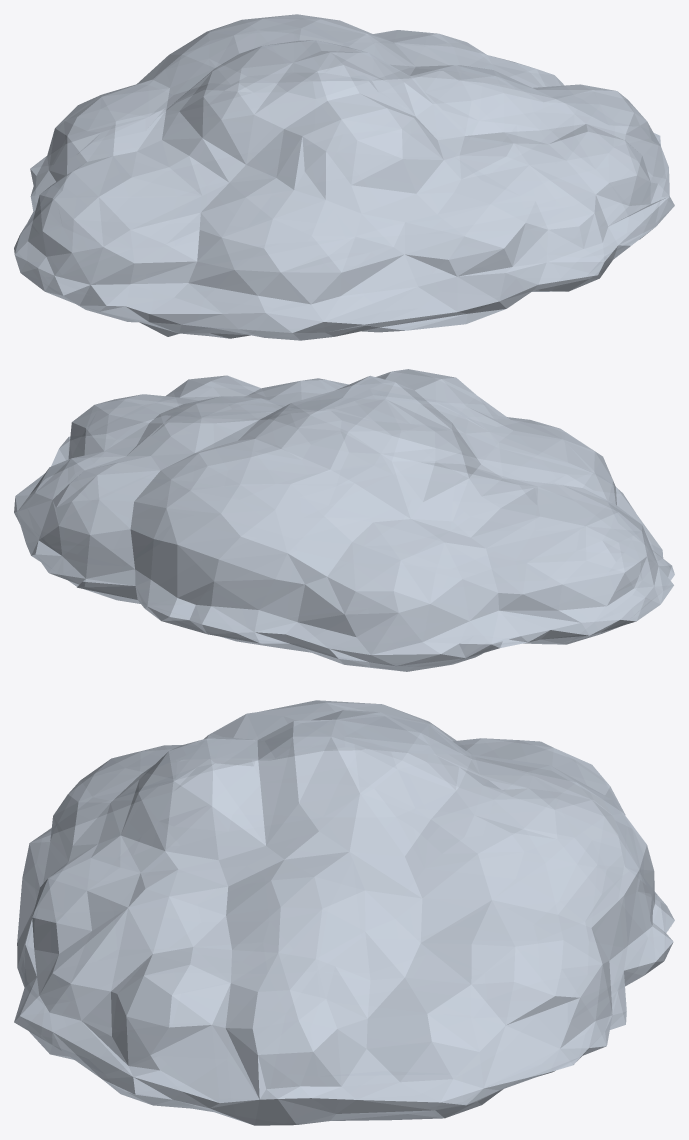
Rendered from cloud_03.dae.
3 renders of one model, top to bottom at view 1: azimuth 30°, elevation 25°; view 2: azimuth 150°, elevation 25°; view 3: azimuth 270°, elevation 25°, orthographic. The views are drawn at different scales.
Visible parts, largest first — view 1: cloud_03; view 2: cloud_03; view 3: cloud_03.
Part boxes in pixels (x1=…): cloud_03: x1=14, y1=14, x2=674, y2=340; cloud_03: x1=14, y1=369, x2=674, y2=671; cloud_03: x1=14, y1=700, x2=674, y2=1125.
Size of the model in its own units: 41.55 by 31.73 by 12.54.
